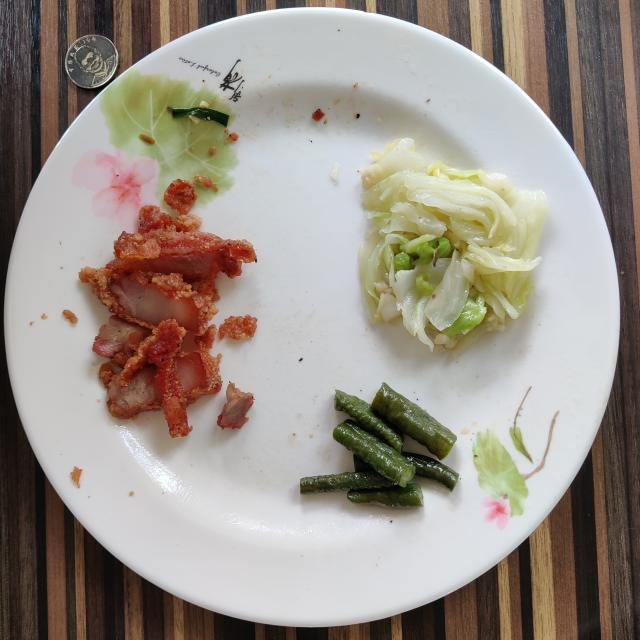cabbage: (359, 138, 549, 354)
coin: (65, 35, 119, 89)
red grilled pork: (79, 179, 256, 438), (218, 382, 254, 429), (219, 315, 258, 340)
